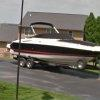Boat: (5, 18, 99, 73)
